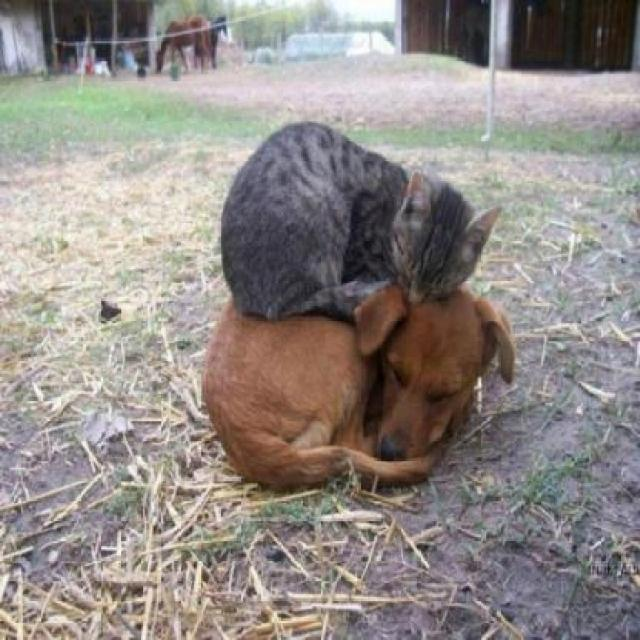cat: (222, 125, 500, 330)
